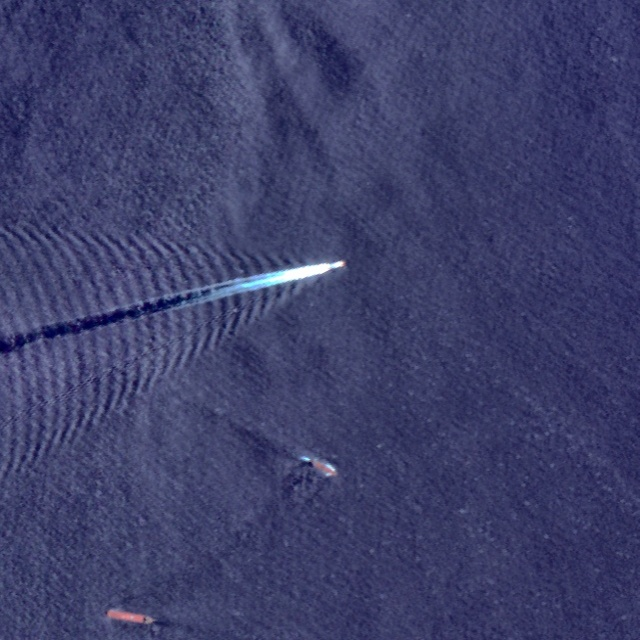wake: (63, 177, 377, 407)
